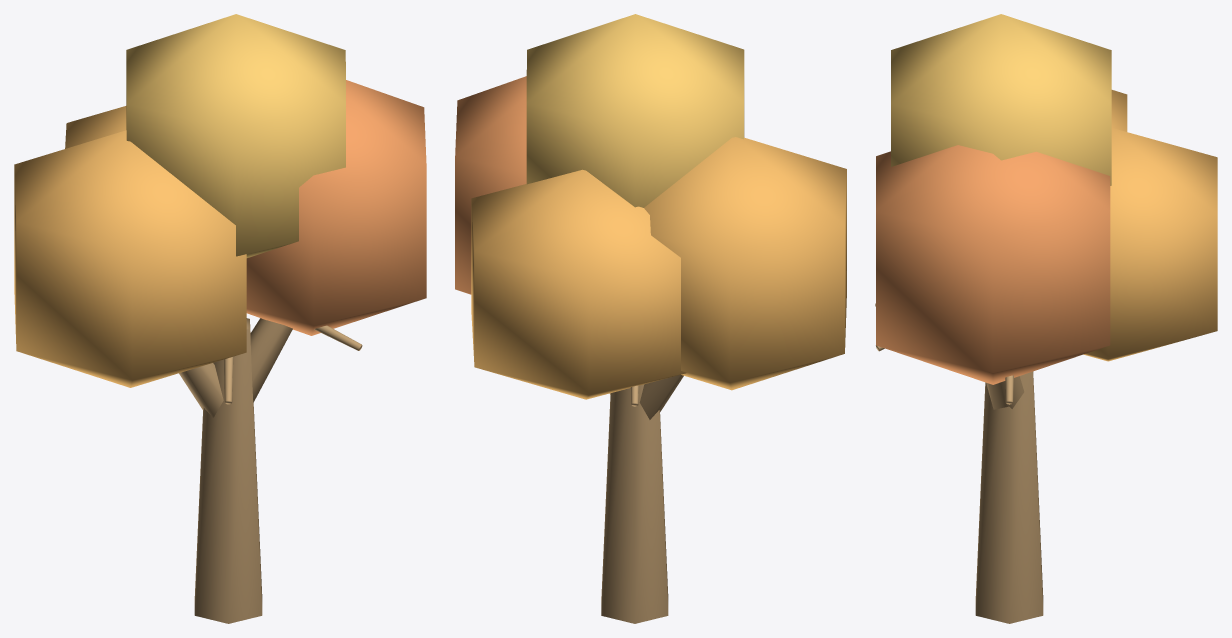
Rendered from tree_harvest_autumn_low.glb.
3 views of the same model, side by side, from view 1: azimuth 30°, elevation 25°; view 2: azimuth 150°, elevation 25°; view 3: azimuth 270°, elevation 25° (orthographic).
Bounding box in the file's own units: 2.24 × 3.19 × 1.67.
